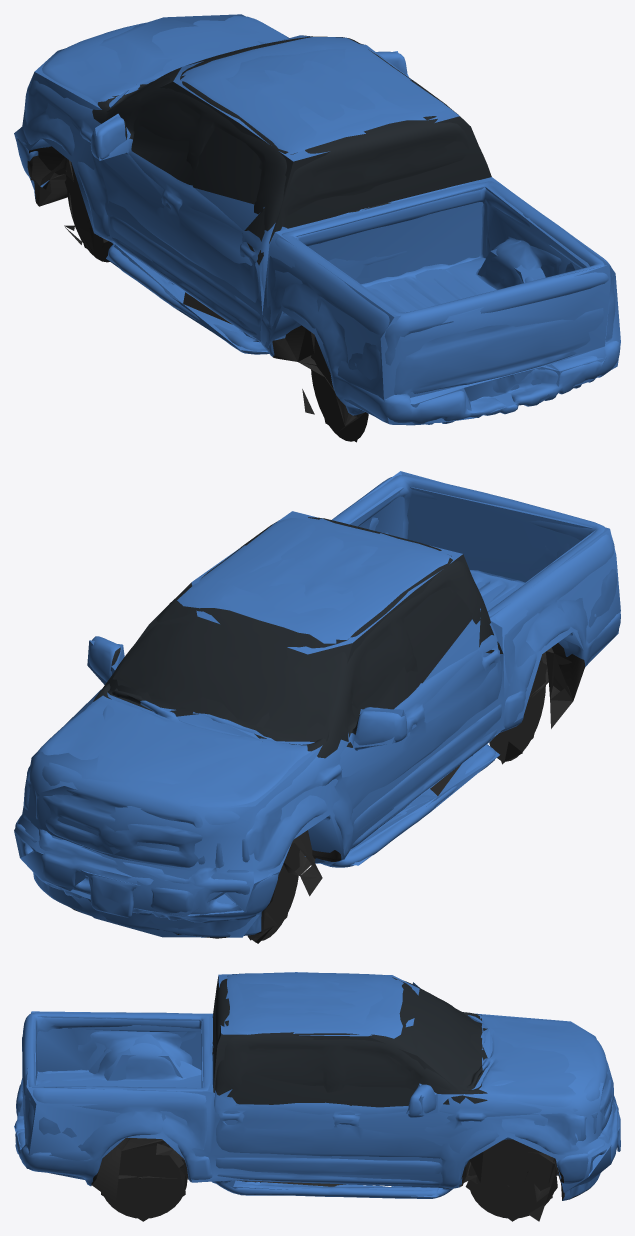
File: ford-f-150.glb
The picture shows the model from 3 angles, top to bottom: view 1: azimuth 30°, elevation 25°; view 2: azimuth 150°, elevation 25°; view 3: azimuth 270°, elevation 25°; orthographic projection. The views are drawn at different scales.
Parts seen in each view (by area): view 1: body, far; view 2: body, far; view 3: body, far.
Boxes of the visible parts, left/top/right/bottom form: body: left=16, top=16, right=620, bottom=441; far: left=14, top=14, right=620, bottom=442; body: left=15, top=475, right=620, bottom=943; far: left=14, top=471, right=620, bottom=942; body: left=15, top=973, right=620, bottom=1221; far: left=14, top=972, right=619, bottom=1221.
Bounding box in the file's own units: 2.6 × 2.01 × 5.8.
